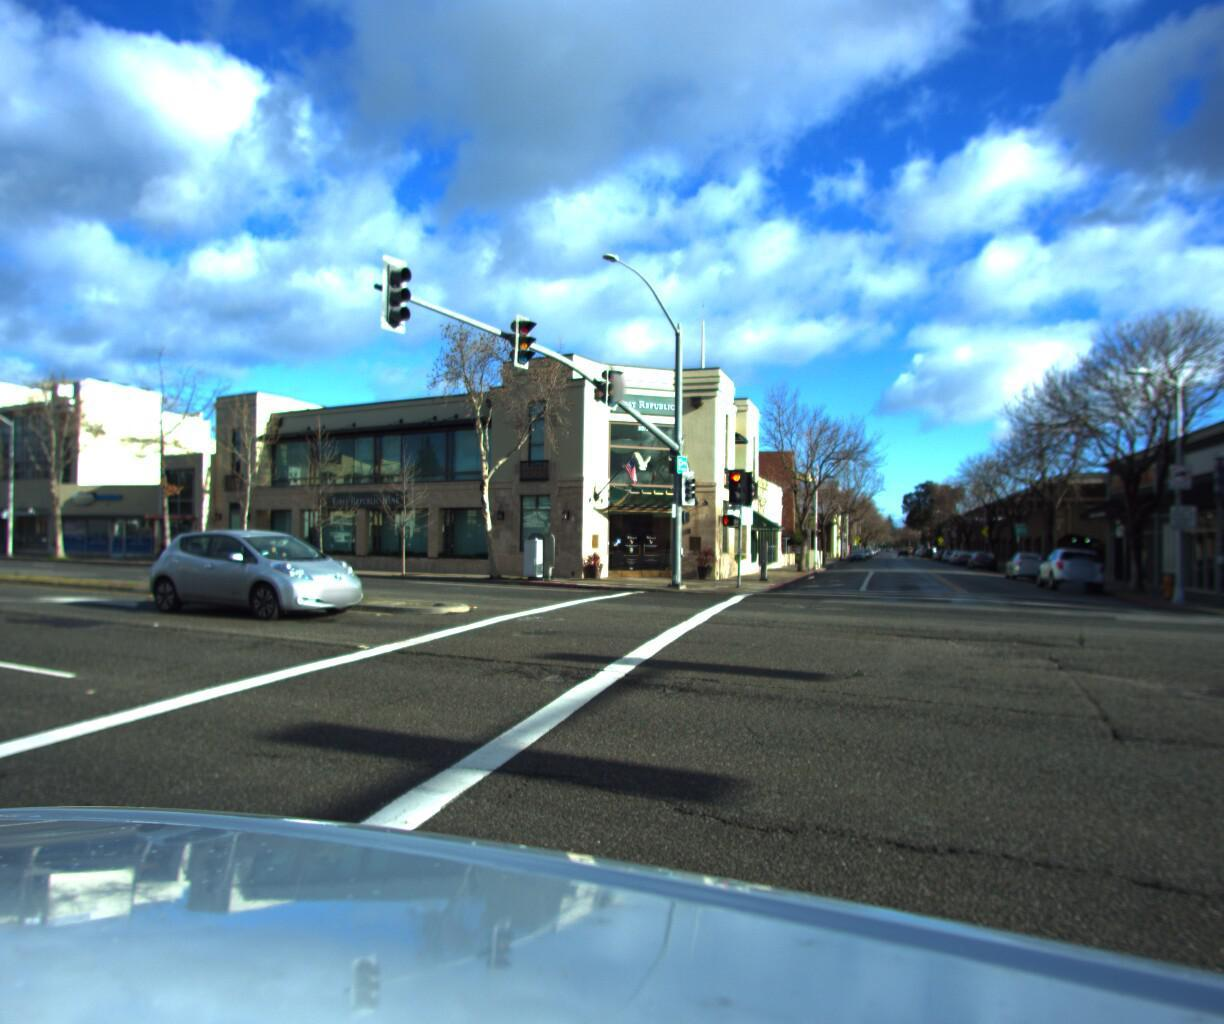car: (136, 525, 375, 624), (1029, 539, 1113, 593), (995, 544, 1056, 578), (960, 541, 997, 564), (945, 540, 975, 559)
